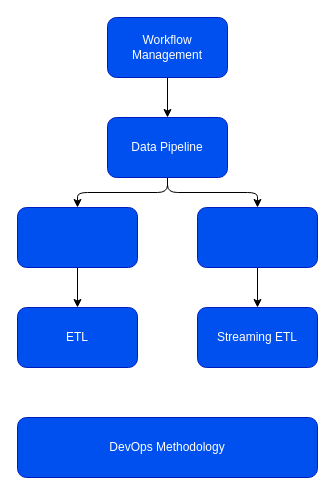
This 335x495 diagram has some shape labels left out. The shapes that lost their labels are listed below. From the top down, each one's box as (x1, y1, x2, y2) in pixels, then its label:
(16, 206, 138, 268): Batch processing
(196, 206, 318, 268): Streaming data
